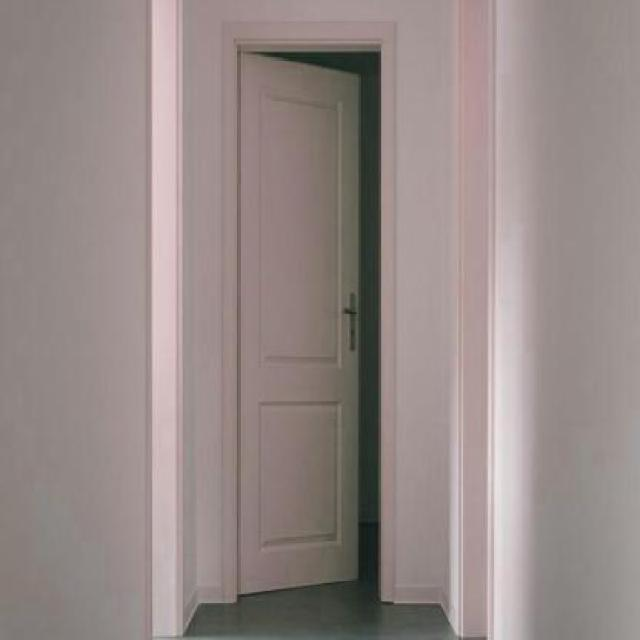door_handle: (339, 305, 365, 322)
